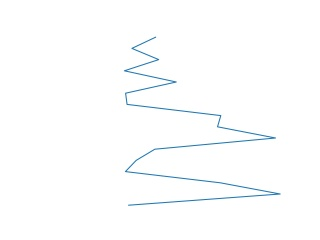majorRiverBedLagDeposit: (120, 36, 284, 210)
